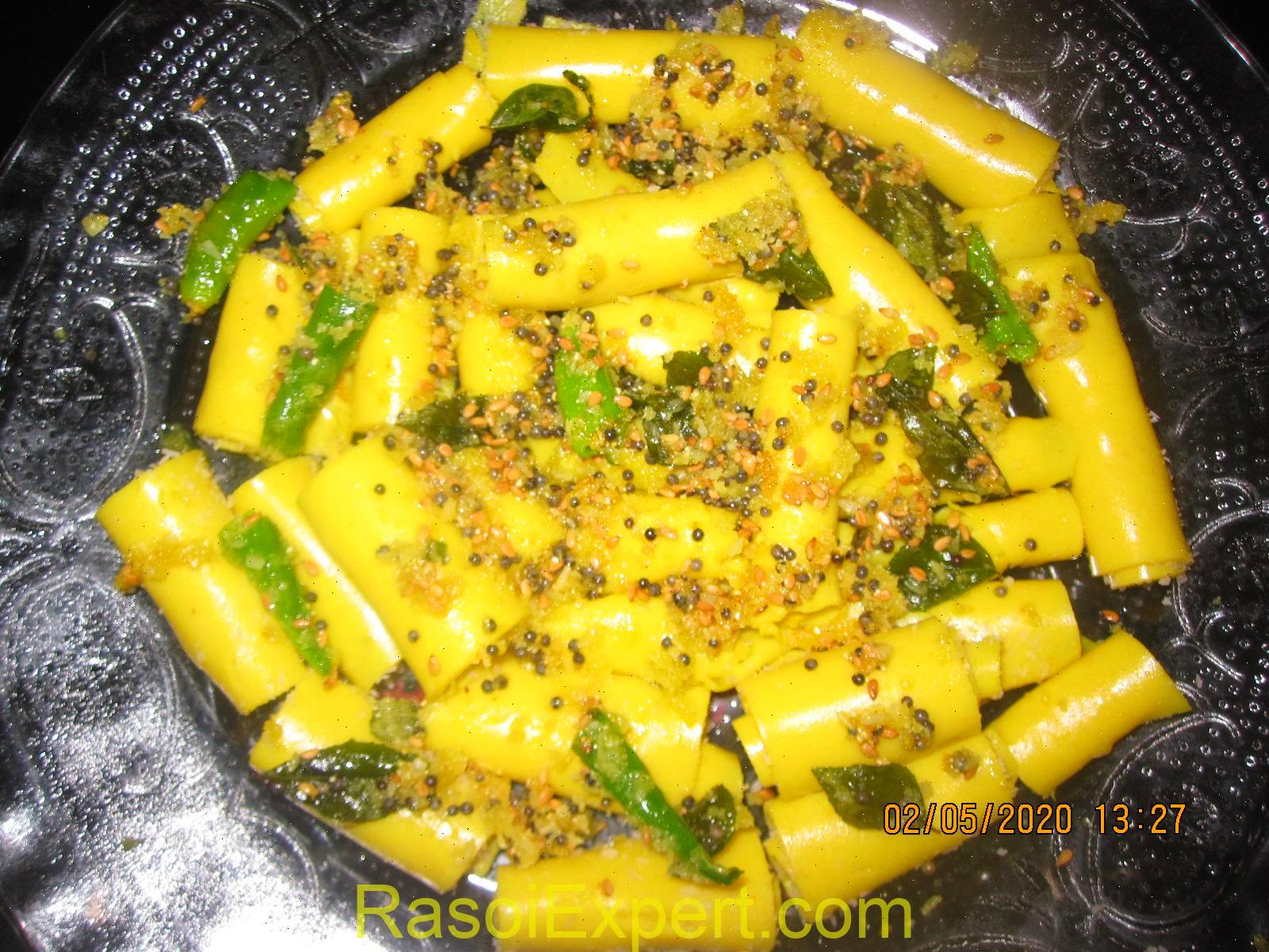khandvi: (198, 175, 1211, 783)
